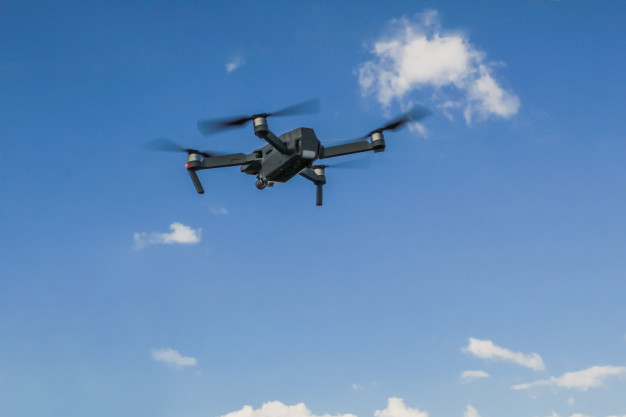drone: (151, 95, 419, 206)
